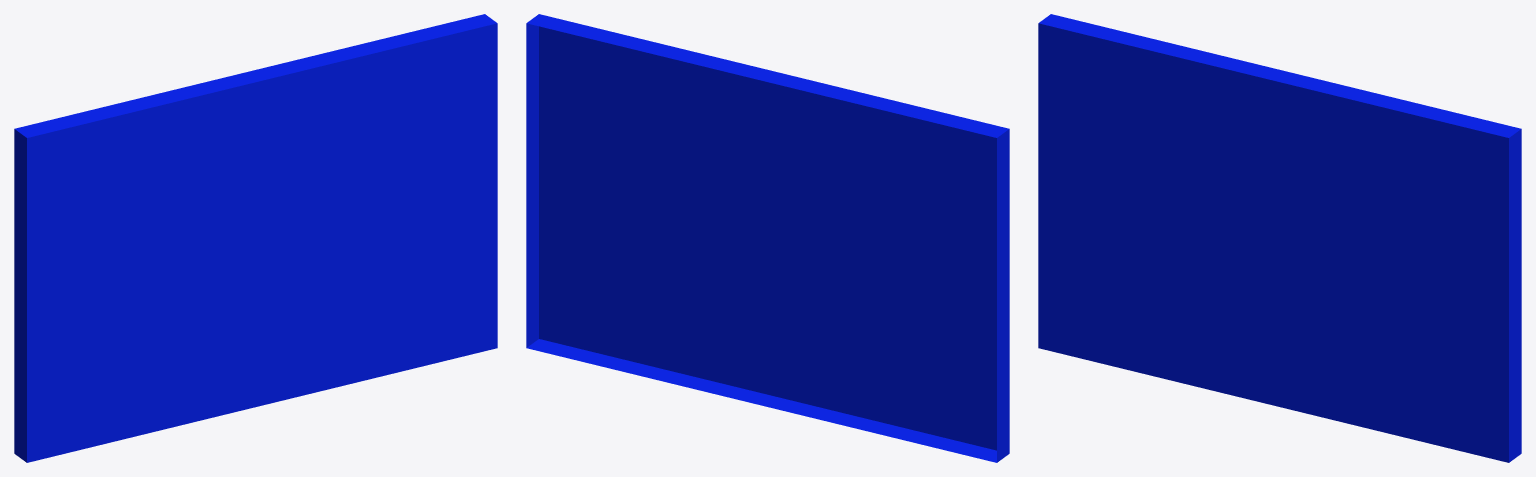
File: Board.fbx
3 views of the same model, side by side, from view 1: azimuth 30°, elevation 25°; view 2: azimuth 150°, elevation 25°; view 3: azimuth 330°, elevation 25° (orthographic).
Parts seen in each view (by area): view 1: Board; view 2: Board; view 3: Board.
Part boxes in pixels (x1=…): Board: x1=14, y1=14, x2=497, y2=462; Board: x1=526, y1=14, x2=1009, y2=462; Board: x1=1038, y1=14, x2=1521, y2=462.
Bounding box in the file's own units: 2.2 × 1.45 × 0.1062.
